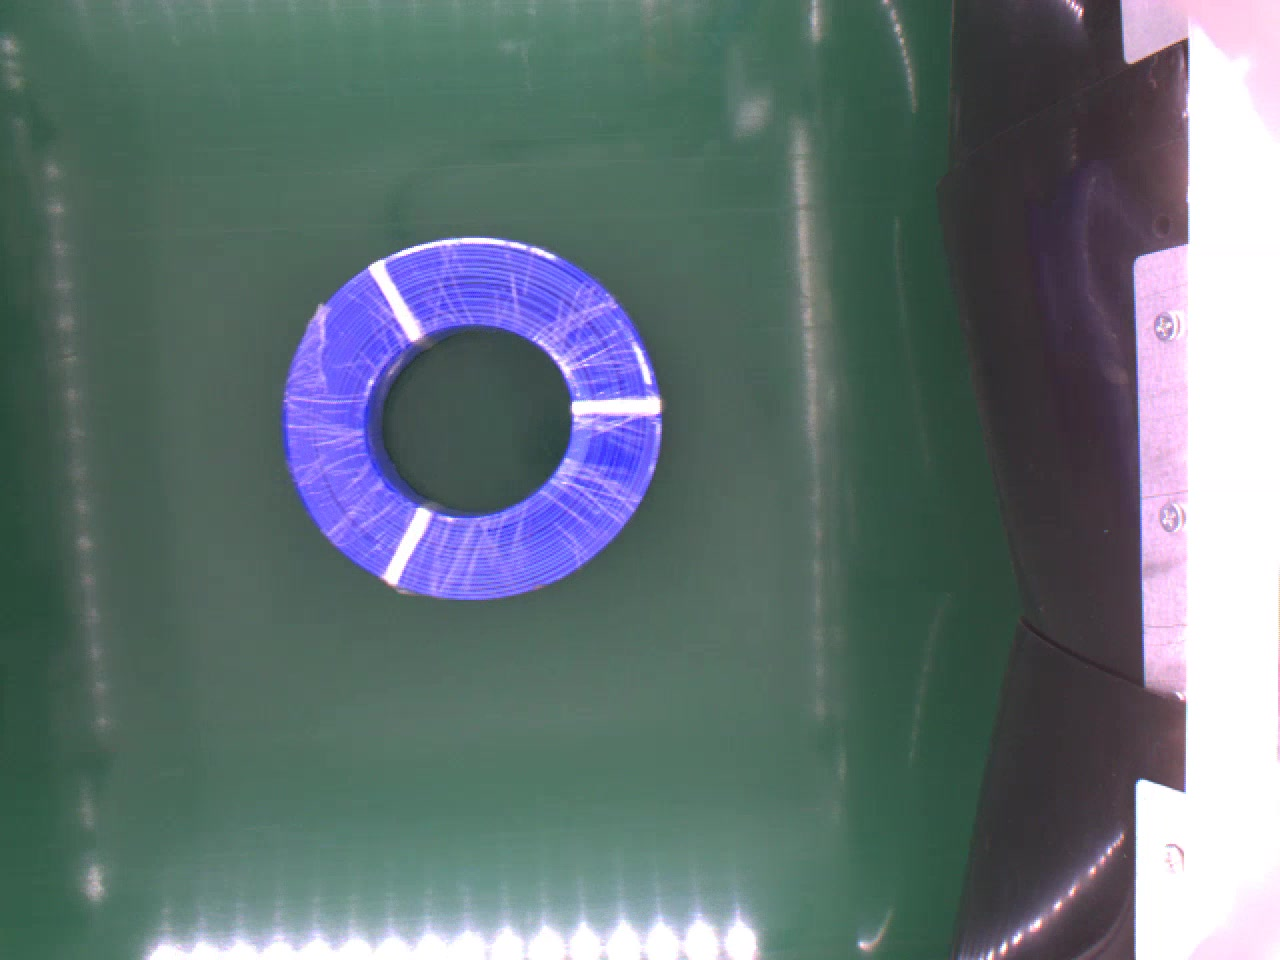blue: (280, 233, 664, 601)
